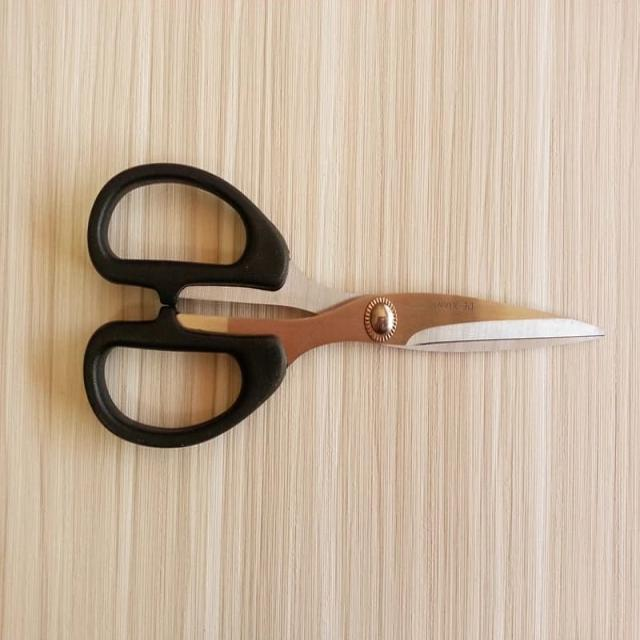Gunting: (71, 101, 614, 470)
